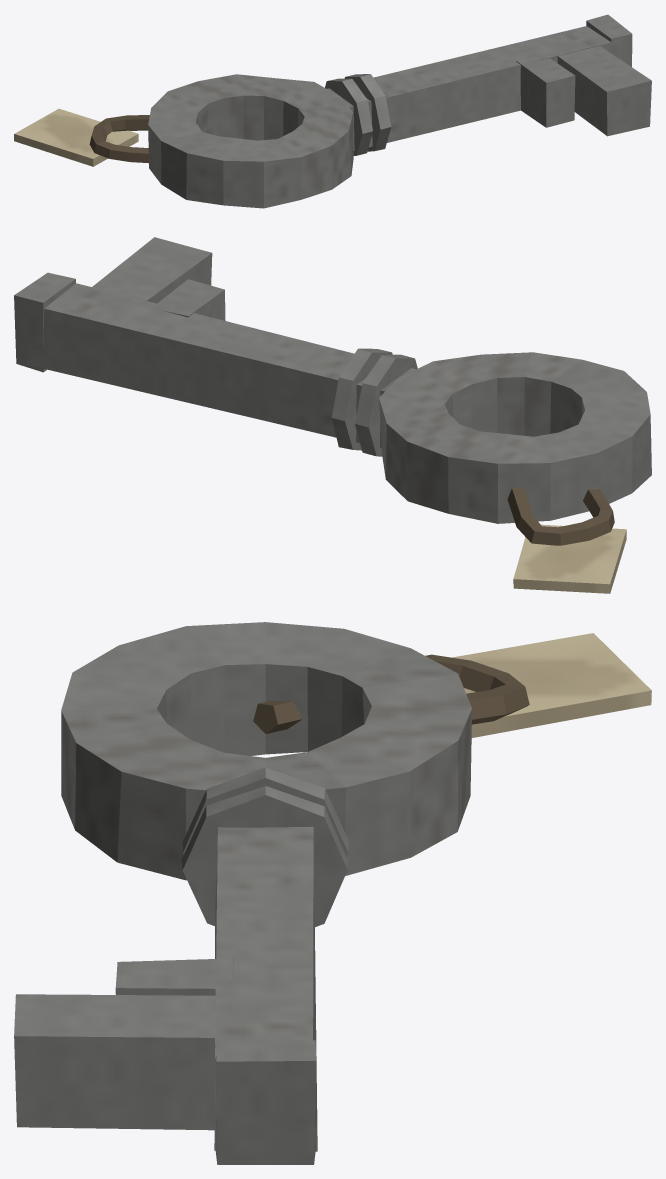
File: barn_key.glb
3 views of the same model, one above another, from view 1: azimuth 30°, elevation 25°; view 2: azimuth 150°, elevation 25°; view 3: azimuth 270°, elevation 25° (orthographic). The views are drawn at different scales.
Parts seen in each view (by area): view 1: BarnKey; view 2: BarnKey; view 3: BarnKey.
Boxes of the visible parts, x1,y1,x2,y2 form: BarnKey: (14, 14, 651, 208); BarnKey: (14, 237, 651, 593); BarnKey: (14, 622, 651, 1164).
Size of the model in its own units: 0.409 by 0.0564 by 0.2152.
Materials: 3 (2 with a texture image).
